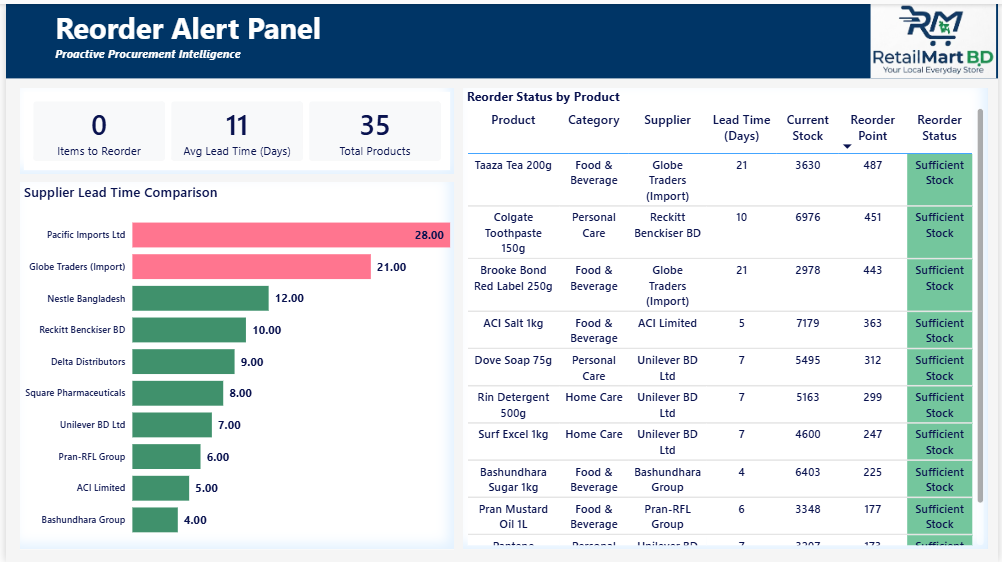

This screenshot's page, from the dashboard's own definition file:
{"tool":"powerbi","page":{"name":"Reorder Alert Panel","canvas":[1280,720],"ordinal":3},"visuals":[{"type":"textbox","box":[0,0,1279.8,96.4],"z":0},{"type":"image","box":[1114,0,165.8,96.4],"z":1000},{"type":"clusteredBarChart","title":"Supplier Lead Time Comparison","fields":{"Category":["dim_supplier.supplier_name"],"Y":["Avg(dim_supplier.lead_time_days)"]},"box":[17.6,229.7,560.3,474],"z":2000},{"type":"tableEx","title":"Reorder Status by Product","fields":{"Values":["vw_reorder_analysis.product_name","vw_reorder_analysis.category","vw_reorder_analysis.supplier_name","Sum(vw_reorder_analysis.lead_time_days)","Sum(vw_reorder_analysis.total_current_stock)","Sum(vw_reorder_analysis.reorder_point)","vw_reorder_analysis.reorder_status"]},"box":[589.5,108.3,677.3,595.4],"z":3000},{"type":"cardVisual","fields":{"Data":["_Measures.Reorder Alert Count","_Measures.Avg Lead Time","_Measures.Total Products Monitored"]},"box":[17.6,108.3,560.3,111.2],"z":4000}]}

Visuals, with their boxes in screenshot pixels (x1, y1, x2, y2), scaled from the page's 1280x720 canvas onto the 1002x562 screenshot:
textbox: pyautogui.locateOnScreen(0, 0, 1001, 75)
image: pyautogui.locateOnScreen(872, 0, 1001, 75)
"Supplier Lead Time Comparison" clusteredBarChart: pyautogui.locateOnScreen(14, 179, 452, 549)
"Reorder Status by Product" tableEx: pyautogui.locateOnScreen(461, 85, 992, 549)
cardVisual - _Measures.Reorder Alert Count x _Measures.Avg Lead Time: pyautogui.locateOnScreen(14, 85, 452, 171)
